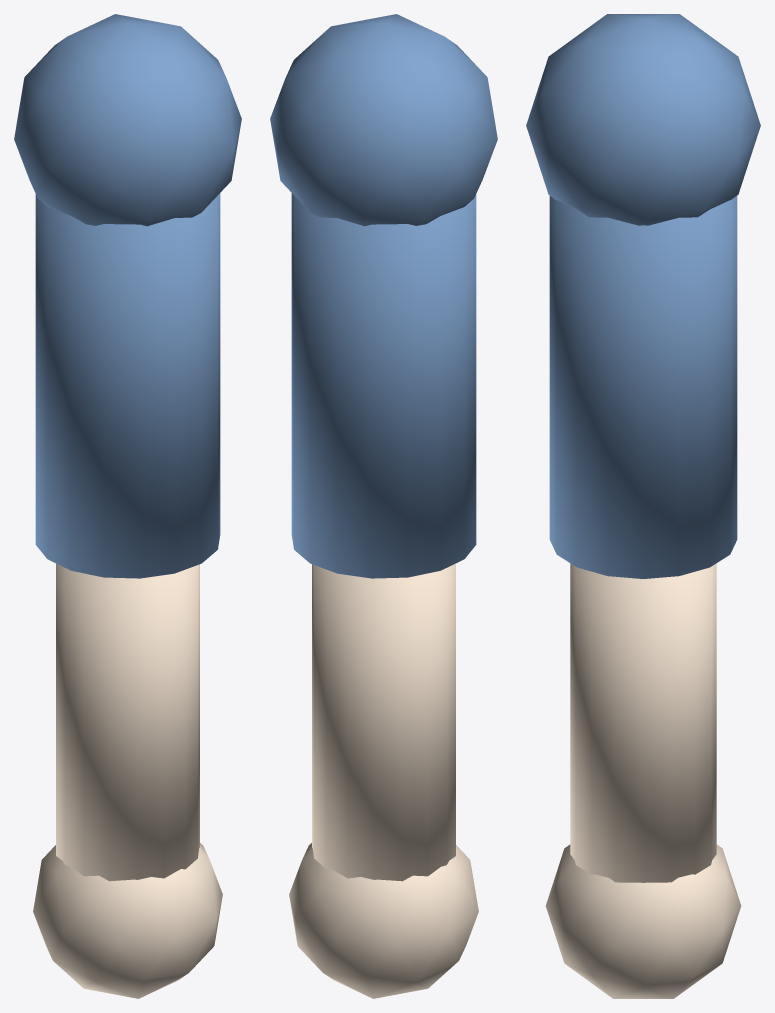
File: braco.glb
The picture shows the model from 3 angles, left to right: view 1: azimuth 30°, elevation 25°; view 2: azimuth 150°, elevation 25°; view 3: azimuth 270°, elevation 25°; orthographic projection.
Parts seen in each view (by area): view 1: Manga, Antebraco, Ombro, Mao; view 2: Manga, Antebraco, Ombro, Mao; view 3: Manga, Antebraco, Ombro, Mao.
Boxes of the visible parts, x1,y1,x2,y2 form: Manga: (35, 193, 220, 578); Antebraco: (56, 563, 199, 881); Ombro: (14, 14, 241, 226); Mao: (33, 843, 222, 998); Manga: (291, 193, 476, 578); Antebraco: (312, 563, 455, 881); Ombro: (270, 14, 497, 226); Mao: (289, 843, 478, 998); Manga: (549, 196, 737, 578); Antebraco: (570, 563, 716, 882); Ombro: (526, 14, 760, 225); Mao: (545, 844, 741, 998).
Bounding box in the file's own units: 0.1712 × 0.825 × 0.18.
